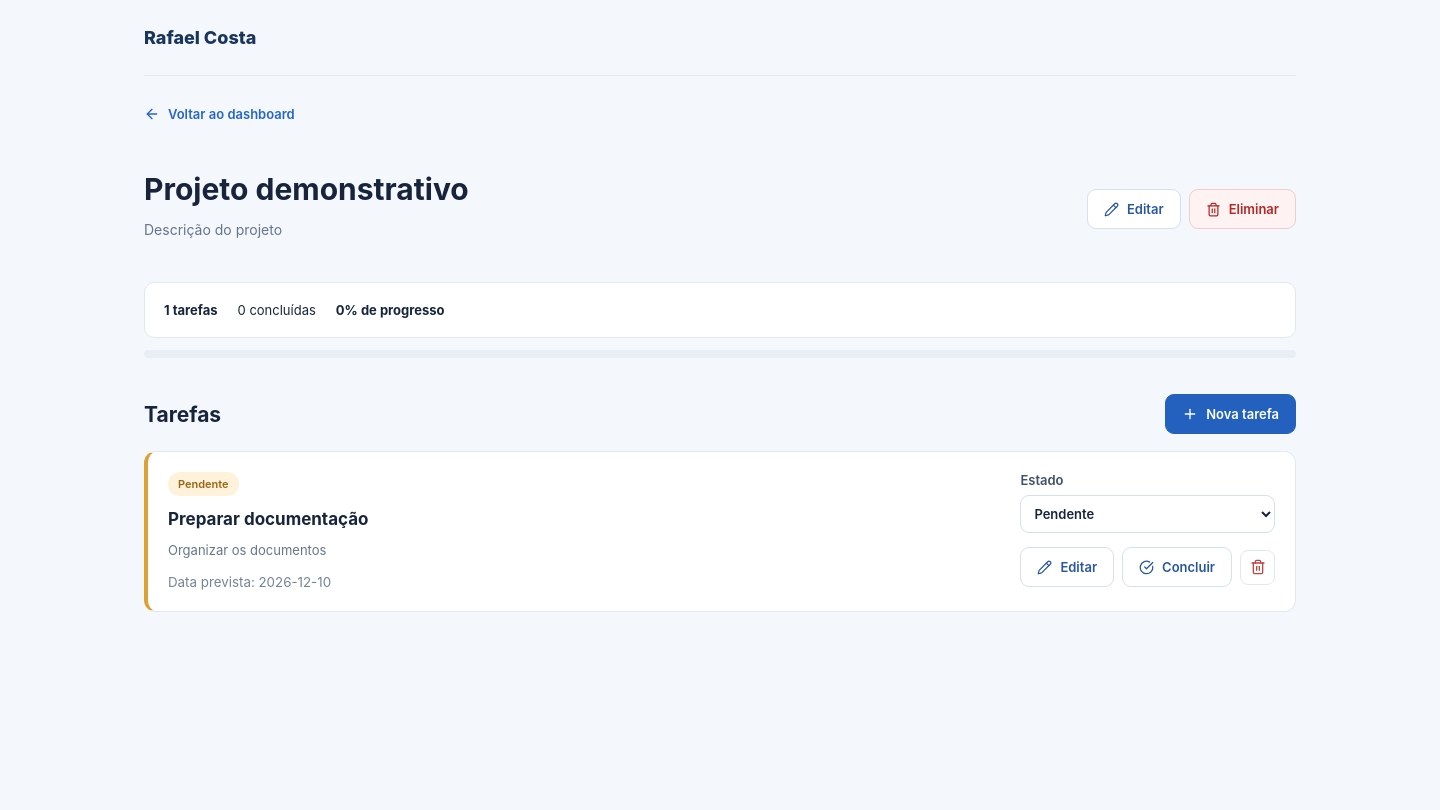
Test case: Página de detalhes do projeto › abre formulário para criar tarefa
This screenshot has width=1440, height=810.
Check: the heading "Preparar documentação" is shown, box x1=168 y1=509 x2=368 y2=529
What coordinates should you click on to do the following:
click the button "Nova tarefa"
I would click on:
 (1231, 414)
Its box is x1=1165 y1=394 x2=1296 y2=434.
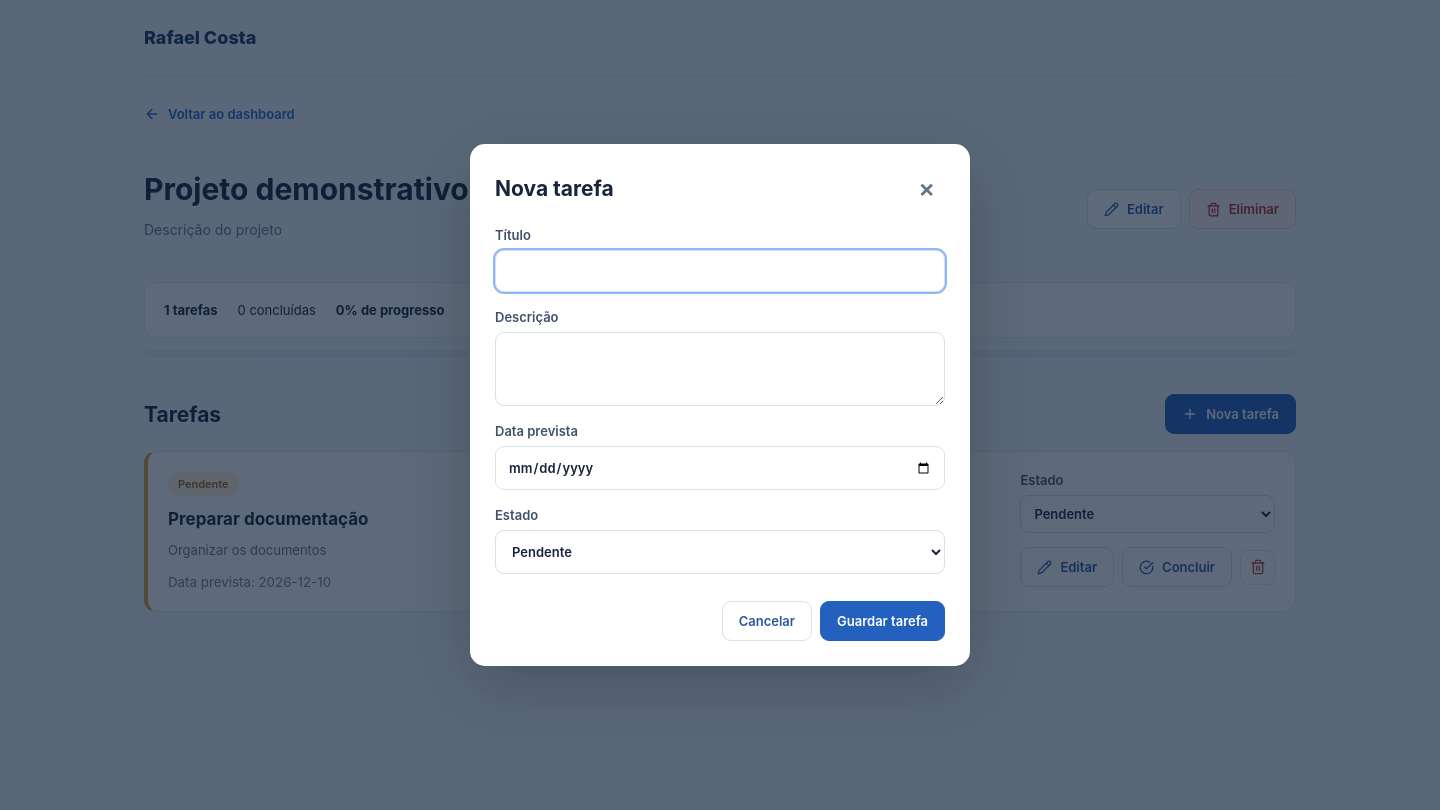
Check: the dialog "Nova tarefa" is shown, box x1=470 y1=144 x2=970 y2=666
